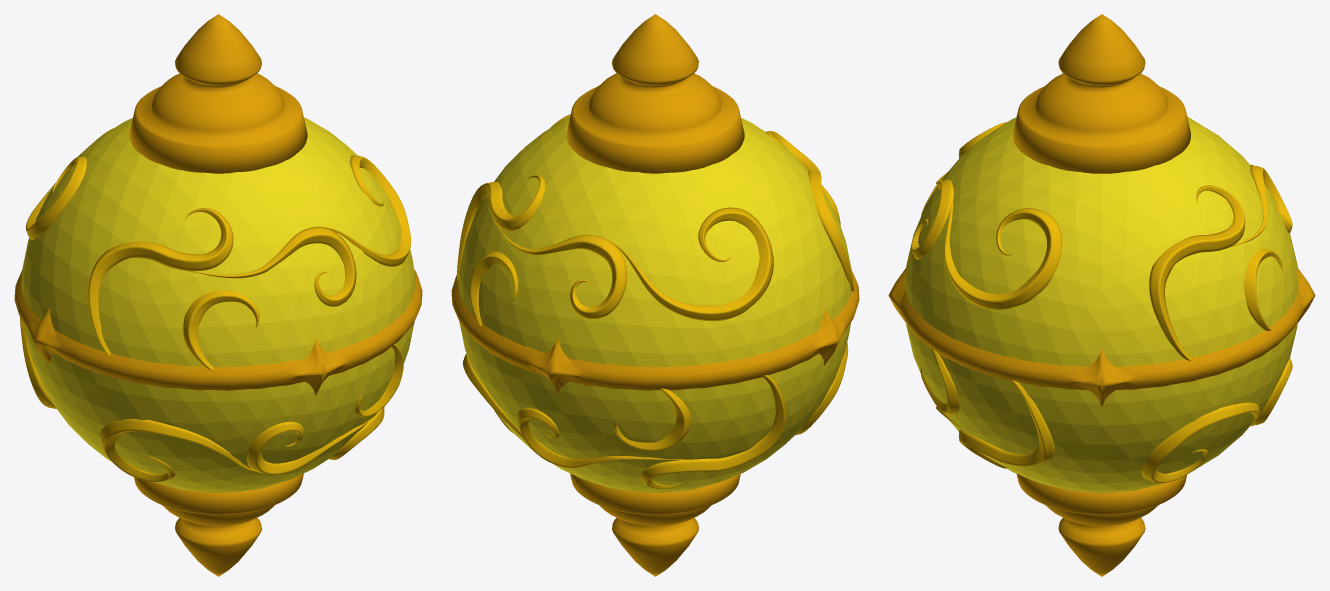
Rendered from gigasphere.glb.
3 renders of one model, left to right at view 1: azimuth 30°, elevation 25°; view 2: azimuth 150°, elevation 25°; view 3: azimuth 270°, elevation 25°, orthographic.
Parts seen in each view (by area): view 1: Plane; view 2: Plane; view 3: Plane.
Part boxes in pixels (left/top/right/bottom): Plane: left=14, top=14, right=422, bottom=576; Plane: left=451, top=14, right=859, bottom=576; Plane: left=888, top=14, right=1315, bottom=576.
Bounding box in the file's own units: 2.16 × 3.14 × 2.16.
